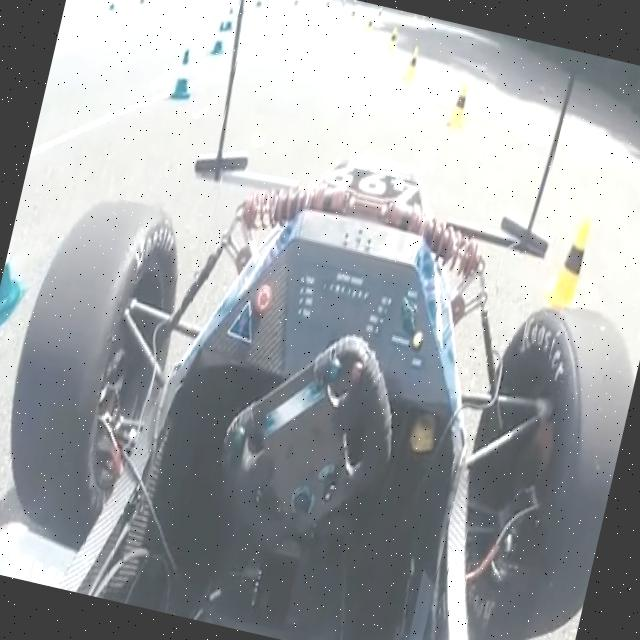blue_cone: (0, 184, 48, 332), (168, 46, 201, 104), (208, 19, 230, 58)
yellow_cone: (542, 210, 599, 315), (444, 82, 474, 133), (402, 44, 421, 82)
